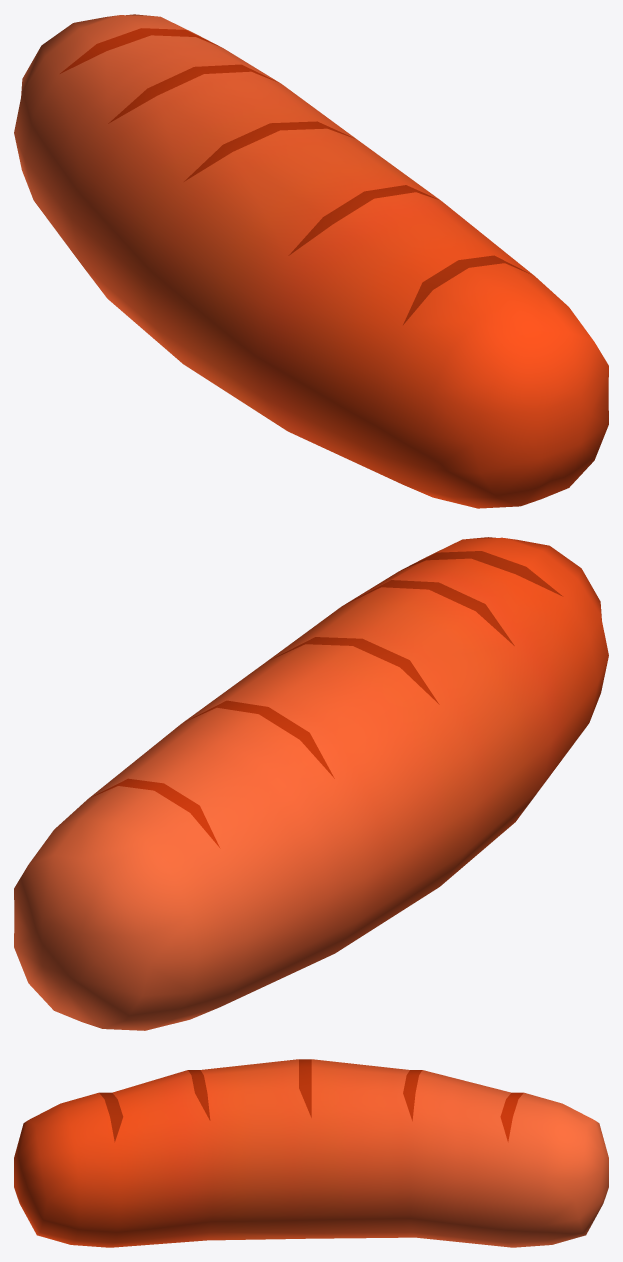
The model's file is SM_Sausage_5.2.fbx.
3 renders of one model, top to bottom at view 1: azimuth 30°, elevation 25°; view 2: azimuth 150°, elevation 25°; view 3: azimuth 270°, elevation 25°, orthographic. The views are drawn at different scales.
Parts seen in each view (by area): view 1: SM_Sausage_5.2; view 2: SM_Sausage_5.2; view 3: SM_Sausage_5.2.
Boxes of the visible parts, x1,y1,x2,y2 form: SM_Sausage_5.2: (14, 14, 608, 508); SM_Sausage_5.2: (14, 537, 608, 1030); SM_Sausage_5.2: (14, 1059, 608, 1247).
Bounding box in the file's own units: 7.18 × 6.76 × 22.23.
1 material, 1 textured.
